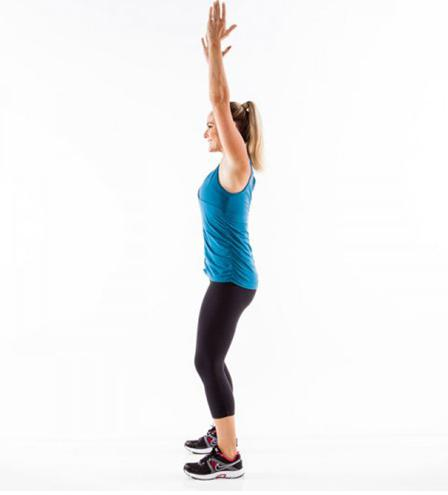handsup: (183, 1, 272, 482)
